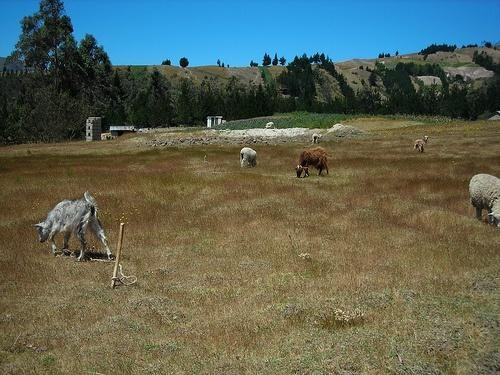cow: (296, 149, 334, 178)
sheep: (471, 174, 500, 227), (242, 146, 259, 169)
